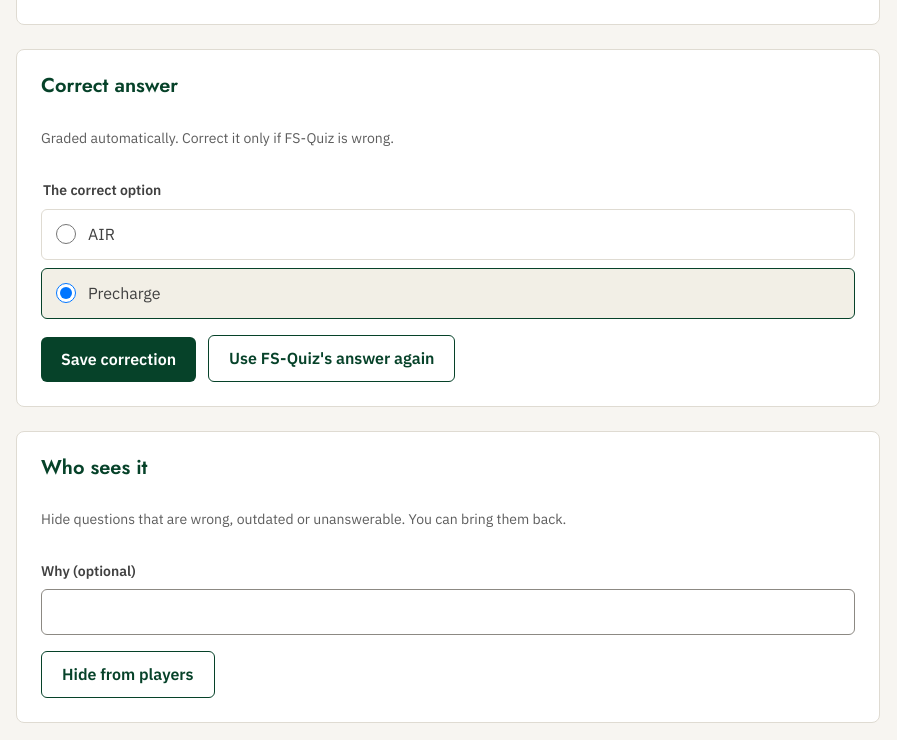
it: removing a correction goes back to the FS-Quiz answer and keeps focus in the form
(page scrolled)
Expected: the radio button labelled "Precharge" is checked, [56,283,76,303]
Click the button "Use FS-Quiz's answer again": (332, 358) [208,335,456,382]
(page scrolled)
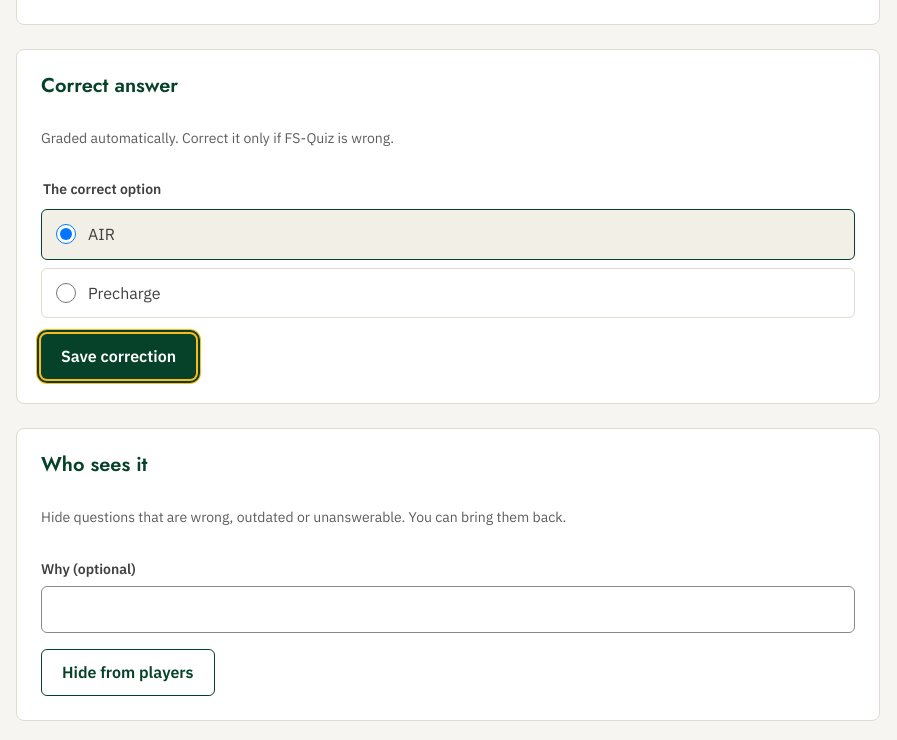
Now the radio button labelled "AIR" is checked, box [56,224,76,244]
Now the button "Use FS-Quiz's answer again" is gone
